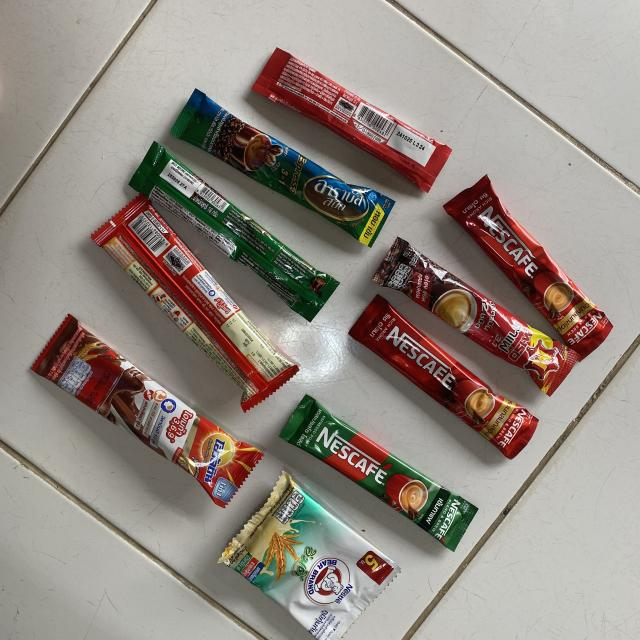plastik: (92, 194, 299, 411), (32, 315, 263, 507), (130, 142, 339, 321), (170, 89, 395, 246), (372, 238, 578, 396), (443, 175, 612, 361), (280, 395, 478, 551), (349, 295, 538, 458), (219, 472, 399, 640), (253, 48, 451, 192)
